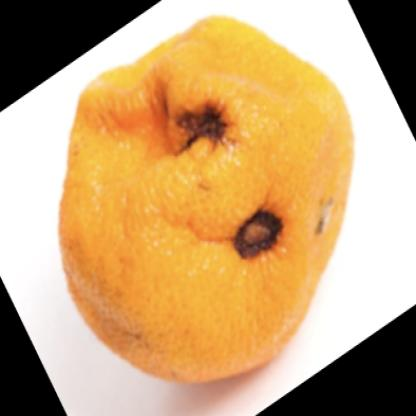rotten: (60, 15, 354, 385)
